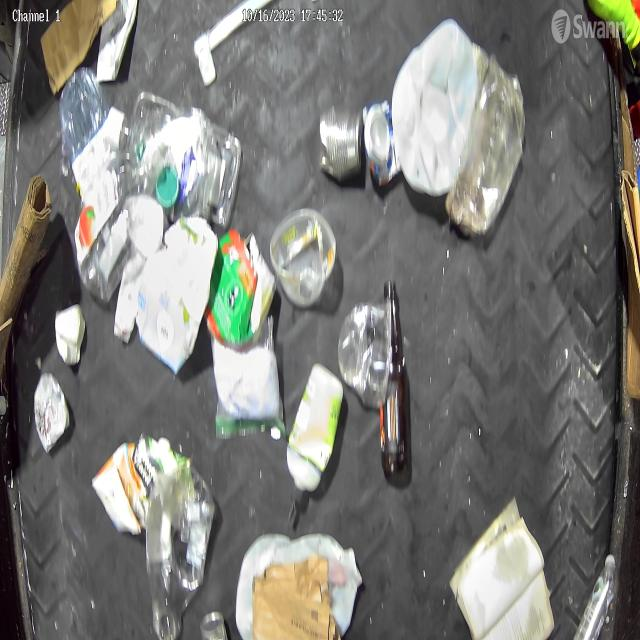can: (361, 95, 404, 200), (318, 101, 366, 195), (196, 600, 232, 640)
milk_jug: (389, 3, 486, 200), (238, 535, 366, 640)
plastic_bottle: (60, 62, 126, 296), (150, 458, 210, 640)
